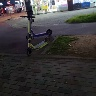gcooter: (18, 14, 52, 58)
